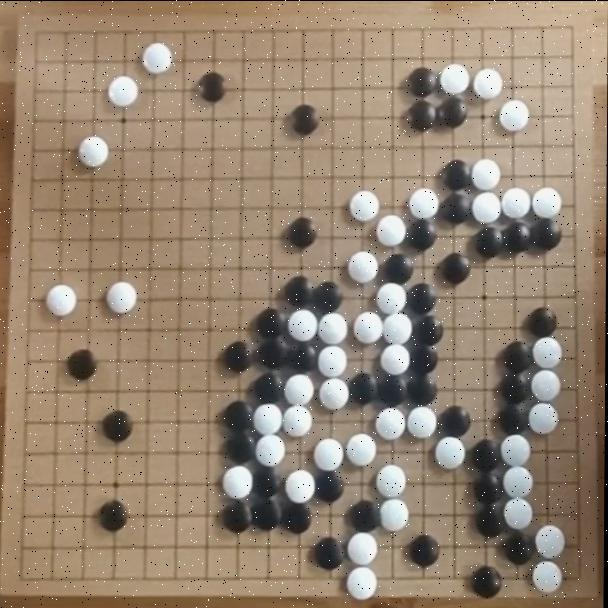corners: (0, 559, 43, 597), (549, 10, 593, 42), (19, 14, 53, 50), (563, 560, 595, 594)
